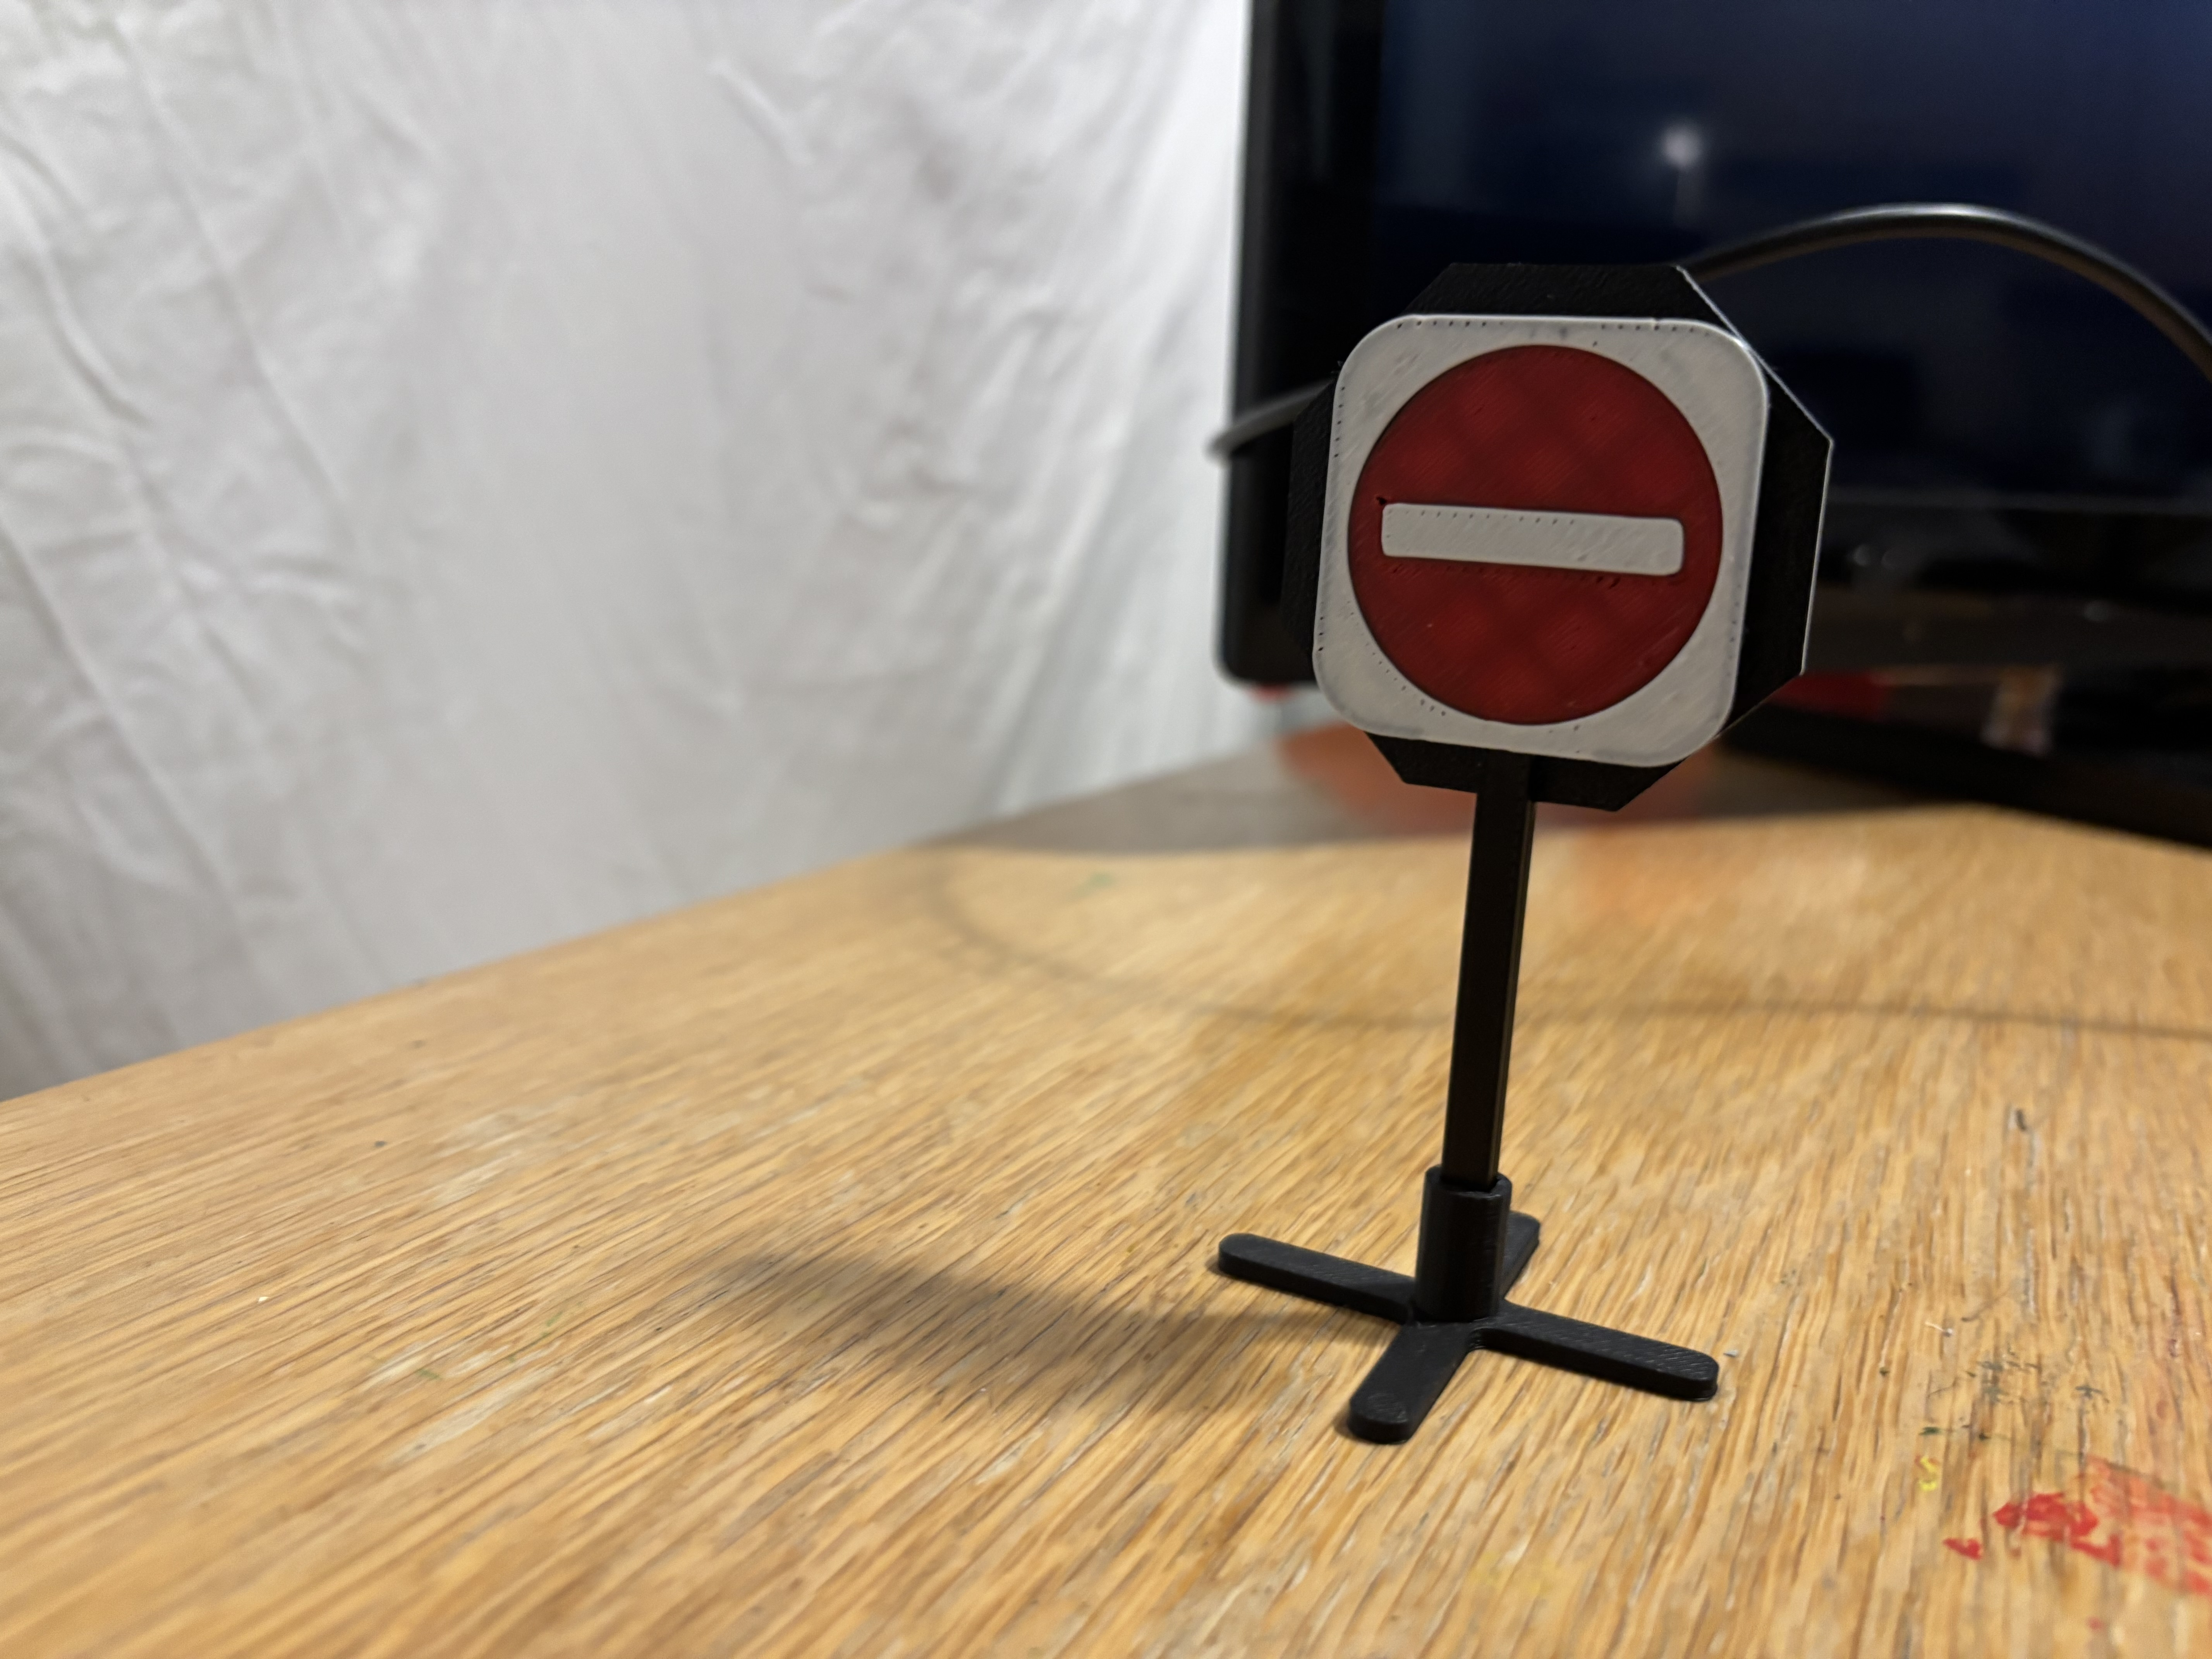sign_noentry: (1317, 298, 1777, 795)
